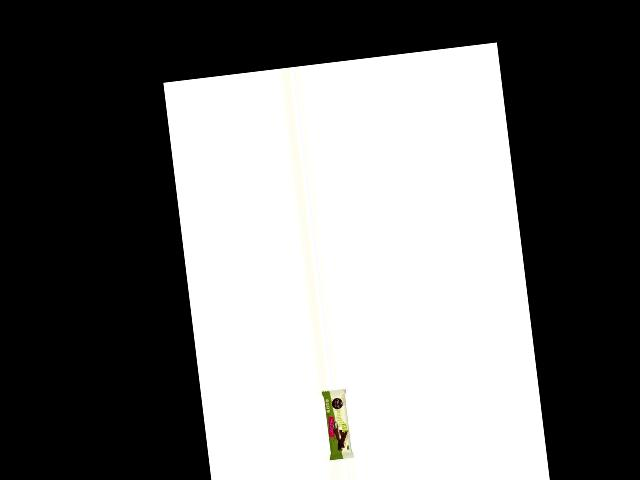chocolate: (319, 388, 356, 462)
